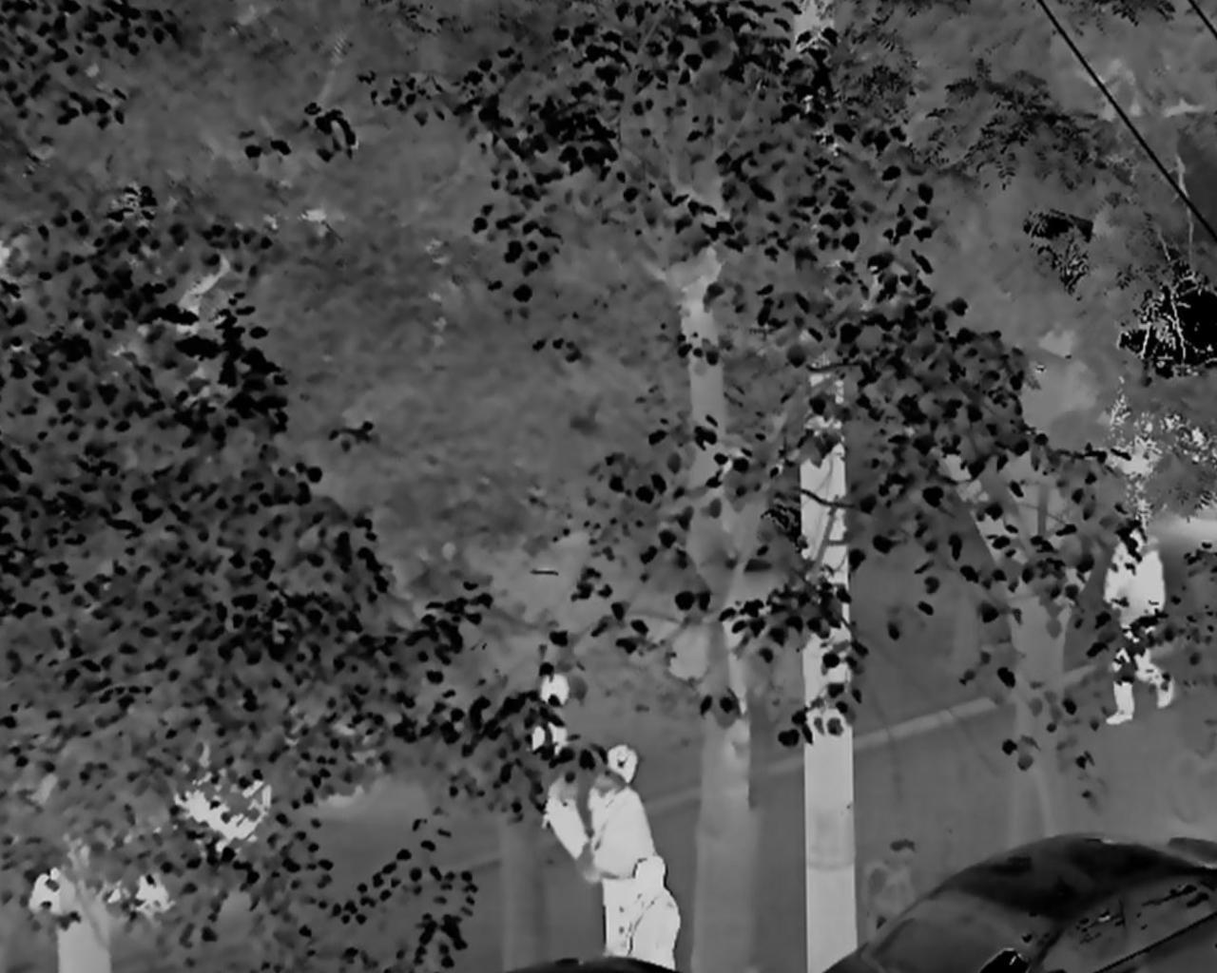person: (1103, 500, 1175, 729), (586, 744, 651, 959), (618, 858, 680, 973)
